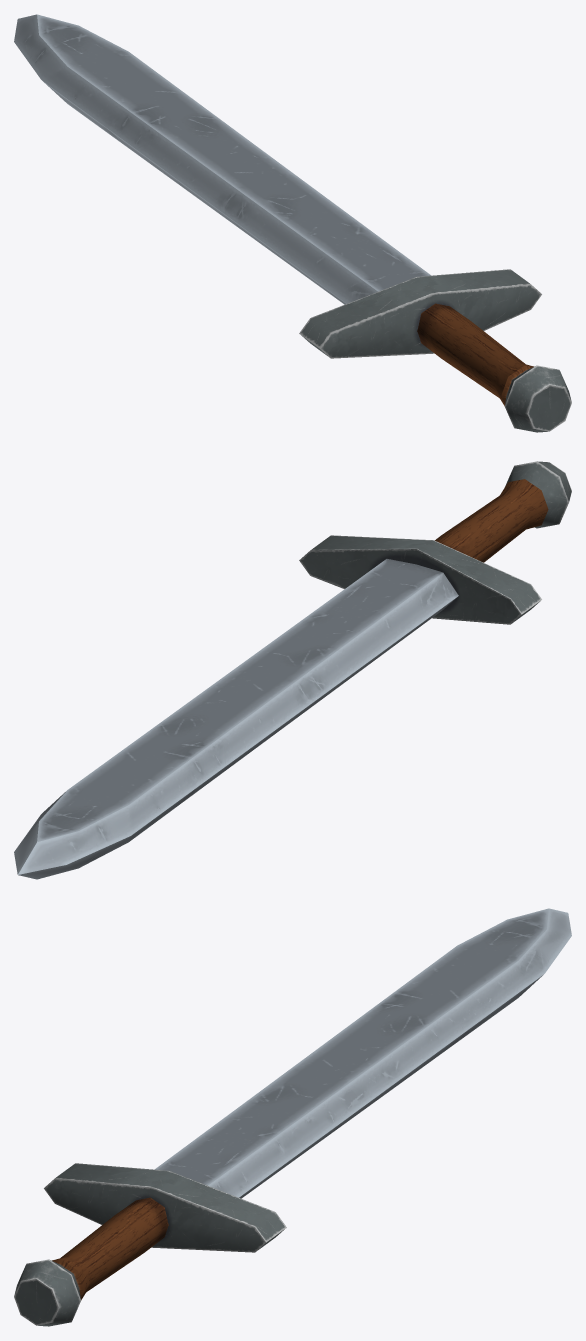
File: sword_one_handed.glb
The picture shows the model from 3 angles, top to bottom: view 1: azimuth 30°, elevation 25°; view 2: azimuth 150°, elevation 25°; view 3: azimuth 330°, elevation 25°; orthographic projection.
Parts seen in each view (by area): view 1: sword_one_handed_sword_0; view 2: sword_one_handed_sword_0; view 3: sword_one_handed_sword_0.
Boxes of the visible parts, bbox=[...] form: sword_one_handed_sword_0: bbox=[14, 14, 571, 432]; sword_one_handed_sword_0: bbox=[14, 461, 571, 879]; sword_one_handed_sword_0: bbox=[14, 908, 571, 1326].
Bounding box in the file's own units: 1.64 × 0.48 × 6.8.
1 material, 1 textured.
